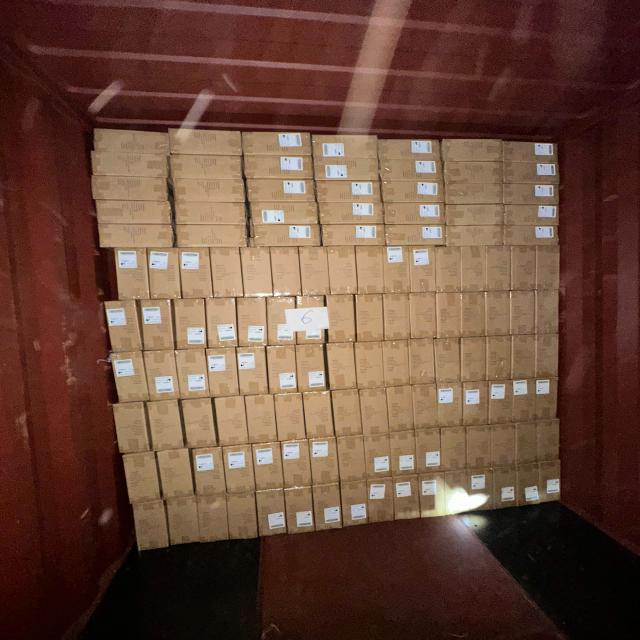Carton: (88, 130, 168, 177), (91, 127, 170, 155), (91, 174, 170, 201), (96, 222, 176, 248), (168, 128, 242, 156), (96, 200, 174, 226), (131, 502, 170, 553), (171, 155, 244, 182), (123, 451, 161, 502), (111, 352, 148, 404), (172, 176, 246, 202), (106, 301, 143, 352), (173, 201, 248, 226), (144, 351, 180, 402), (114, 250, 150, 301), (313, 133, 378, 161), (244, 155, 314, 181), (149, 401, 186, 450), (113, 402, 149, 452), (176, 223, 248, 248), (157, 451, 192, 502), (243, 132, 314, 157), (140, 300, 174, 351), (317, 200, 383, 226), (252, 224, 323, 248), (181, 398, 215, 448), (249, 202, 319, 226), (246, 178, 316, 202), (176, 297, 208, 349), (179, 248, 211, 300), (214, 397, 247, 447), (205, 298, 237, 349), (210, 249, 242, 300), (148, 249, 180, 300), (193, 447, 226, 496), (176, 350, 208, 400), (167, 498, 200, 546), (443, 136, 503, 162), (500, 158, 560, 184), (314, 158, 379, 182), (378, 138, 442, 162), (380, 158, 444, 182), (207, 348, 238, 397), (317, 183, 383, 206), (382, 179, 445, 203), (242, 248, 272, 298), (237, 298, 267, 348), (225, 444, 255, 494), (442, 160, 502, 185), (237, 347, 268, 395), (383, 202, 445, 226), (268, 345, 298, 394), (328, 343, 358, 392), (248, 395, 278, 444), (268, 296, 298, 345), (257, 491, 288, 538), (198, 497, 229, 544), (228, 495, 259, 542), (272, 248, 301, 298), (301, 248, 330, 298), (253, 442, 283, 490), (329, 247, 358, 296), (282, 439, 311, 488), (296, 299, 325, 348), (500, 222, 559, 246), (304, 392, 334, 439), (285, 489, 315, 536), (298, 346, 328, 393), (320, 224, 384, 246), (385, 223, 446, 246), (276, 394, 305, 442), (446, 203, 504, 227), (502, 181, 560, 205), (355, 294, 383, 343), (354, 340, 382, 389), (328, 295, 356, 344), (503, 202, 560, 226), (313, 484, 342, 531), (310, 439, 339, 486), (500, 140, 559, 163), (443, 182, 501, 205), (446, 224, 504, 247), (356, 247, 383, 296), (409, 246, 436, 295), (334, 391, 362, 438), (383, 294, 410, 342), (342, 480, 369, 528), (358, 390, 386, 436), (466, 470, 495, 514), (383, 245, 409, 294), (383, 339, 410, 386), (436, 247, 463, 294), (338, 436, 365, 482), (511, 246, 538, 292), (409, 294, 436, 340), (386, 386, 413, 432), (460, 247, 486, 294), (392, 475, 419, 520), (485, 292, 511, 338), (408, 339, 434, 385), (534, 246, 560, 292), (419, 472, 445, 518), (390, 432, 416, 477), (460, 337, 486, 382), (437, 294, 463, 339), (441, 426, 467, 471), (414, 430, 440, 475), (368, 478, 394, 523), (486, 246, 511, 292), (364, 434, 389, 480), (413, 383, 438, 429), (435, 338, 461, 382), (486, 337, 512, 381), (438, 382, 464, 426), (462, 381, 487, 426), (493, 466, 518, 511), (533, 377, 558, 422), (490, 425, 516, 468), (461, 293, 485, 339), (512, 291, 536, 337), (512, 378, 536, 424), (536, 418, 560, 464), (534, 292, 559, 336), (512, 336, 538, 378), (465, 427, 490, 470), (515, 420, 538, 466), (442, 472, 465, 518), (488, 380, 512, 424), (535, 335, 559, 378), (538, 461, 562, 503), (517, 463, 538, 508)
